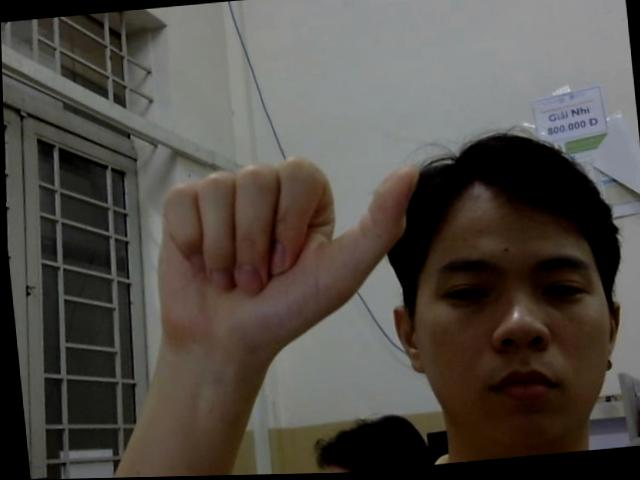A: (143, 146, 428, 342)
